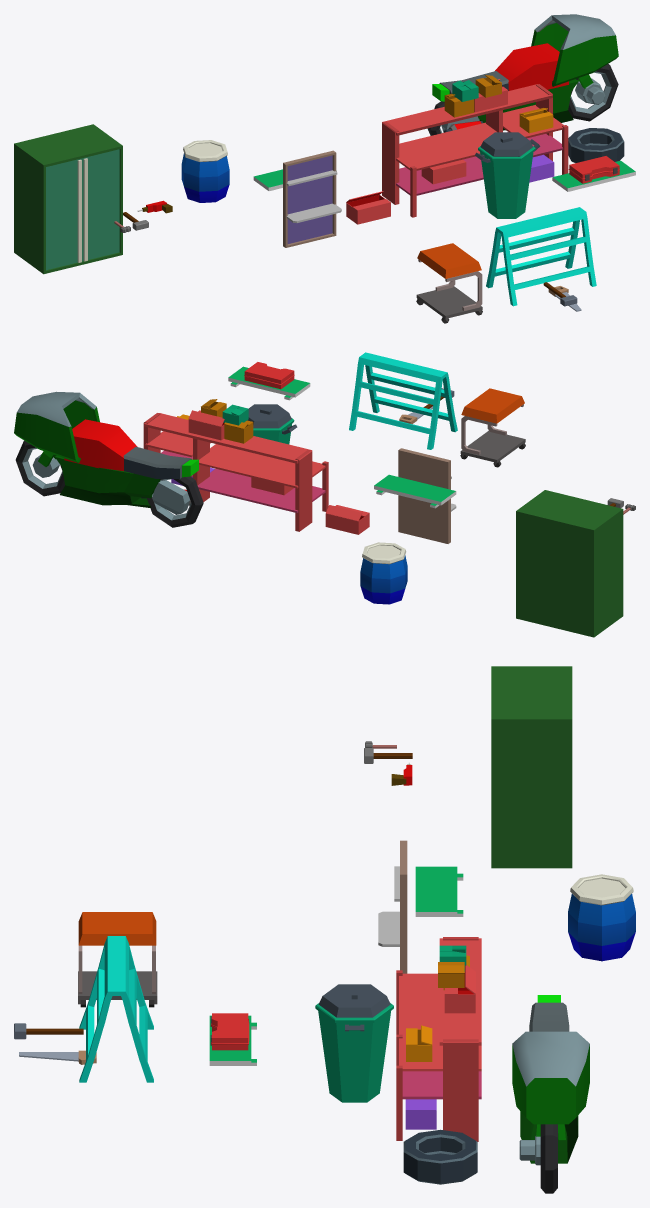
The model's file is Level14.fbx.
The picture shows the model from 3 angles, top to bottom: view 1: azimuth 30°, elevation 25°; view 2: azimuth 150°, elevation 25°; view 3: azimuth 270°, elevation 25°; orthographic projection. The views are drawn at different scales.
Parts seen in each view (by area): view 1: Cabinet3, Box12, Bike_Body, Stool_Stand2, Tool_Stand3, trawly, Basket, Oil_Drum1, Tire, Box8, Tire8, Cap1 (+10 smaller); view 2: Cabinet3, Bike_Body, Box12, Stool_Stand2, Tool_Stand3, trawly, Oil_Drum1, Stand9, Tire, Box8, Tire8, Box15 (+7 smaller); view 3: Cabinet3, Box12, Bike_Body, Basket, Oil_Drum1, Stool_Stand2, trawly, Tire, Stand9, Tool_Stand3, Cap1, Box15 (+5 smaller).
Part boxes in pixels (bbox=[...]): Cabinet3: bbox=[14, 124, 122, 274]; Box12: bbox=[382, 84, 568, 217]; Bike_Body: bbox=[432, 14, 618, 132]; Stool_Stand2: bbox=[486, 207, 596, 306]; Tool_Stand3: bbox=[283, 150, 341, 247]; trawly: bbox=[416, 243, 482, 321]; Basket: bbox=[475, 139, 540, 218]; Oil_Drum1: bbox=[181, 140, 229, 202]; Tire: bbox=[568, 128, 624, 163]; Box8: bbox=[346, 191, 390, 224]; Tire8: bbox=[568, 64, 618, 121]; Cap1: bbox=[480, 132, 532, 156]; Cabinet3: bbox=[516, 490, 623, 637]; Bike_Body: bbox=[14, 391, 198, 514]; Box12: bbox=[143, 413, 328, 531]; Stool_Stand2: bbox=[349, 352, 457, 449]; Tool_Stand3: bbox=[398, 448, 456, 543]; trawly: bbox=[460, 388, 525, 465]; Oil_Drum1: bbox=[360, 542, 407, 604]; Stand9: bbox=[374, 474, 456, 508]; Tire: bbox=[147, 476, 203, 527]; Box8: bbox=[325, 505, 369, 534]; Tire8: bbox=[15, 440, 64, 496]; Box15: bbox=[244, 362, 294, 389]; Cabinet3: bbox=[491, 666, 572, 868]; Box12: bbox=[396, 937, 481, 1141]; Bike_Body: bbox=[512, 995, 589, 1165]; Basket: bbox=[315, 1003, 393, 1102]; Oil_Drum1: bbox=[568, 874, 635, 961]; Stool_Stand2: bbox=[79, 936, 153, 1082]; trawly: bbox=[78, 912, 157, 1004]; Tire: bbox=[403, 1129, 477, 1184]; Stand9: bbox=[415, 866, 463, 916]; Tool_Stand3: bbox=[378, 840, 407, 973]; Cap1: bbox=[318, 984, 390, 1017]; Box15: bbox=[210, 1013, 249, 1050].
Size of the model in its own units: 22.56 by 4.03 by 14.96.
